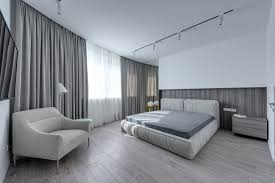bed-matress: (121, 110, 219, 138)
